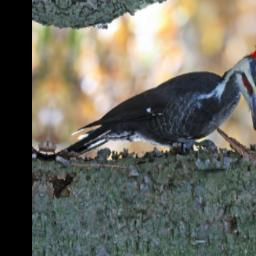Woodpecker: (48, 24, 256, 183)
